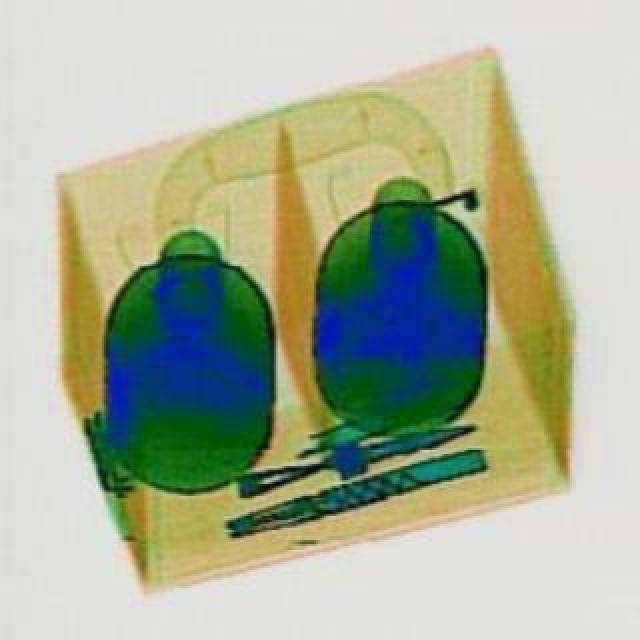knife: (224, 408, 476, 504)
